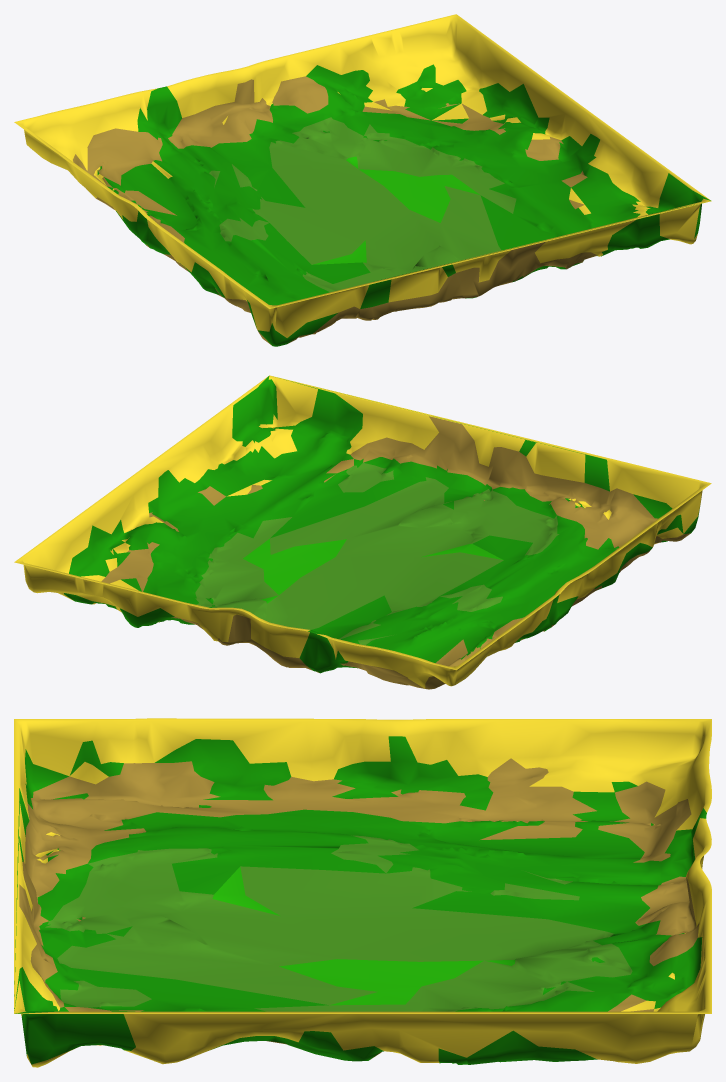
File: mapTexture.glb
3 renders of one model, top to bottom at view 1: azimuth 30°, elevation 25°; view 2: azimuth 150°, elevation 25°; view 3: azimuth 270°, elevation 25°, orthographic. The views are drawn at different scales.
Visible parts, largest first — view 1: Landscape.004; view 2: Landscape.004; view 3: Landscape.004.
Boxes of the visible parts, bbox=[...] form: Landscape.004: bbox=[14, 14, 711, 346]; Landscape.004: bbox=[14, 375, 711, 689]; Landscape.004: bbox=[14, 718, 711, 1067].
Size of the model in its own units: 8 by 0.9211 by 8.
